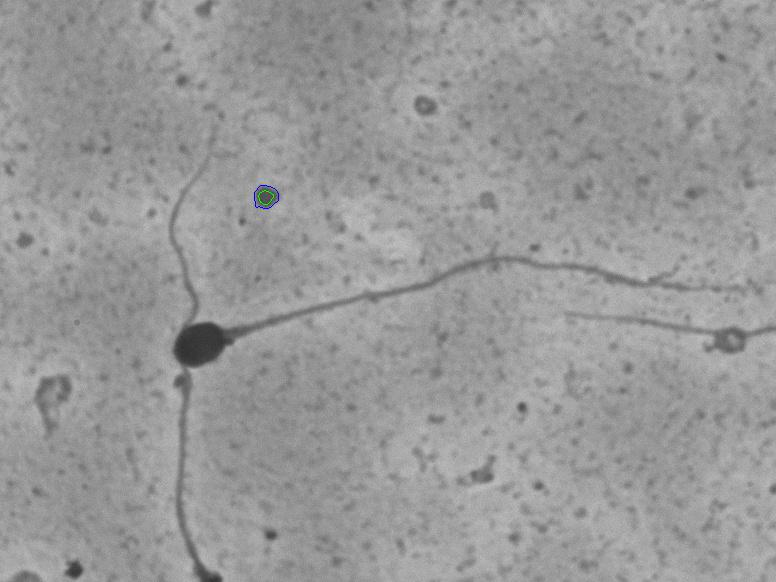Abnormal: (168, 216, 715, 417)
